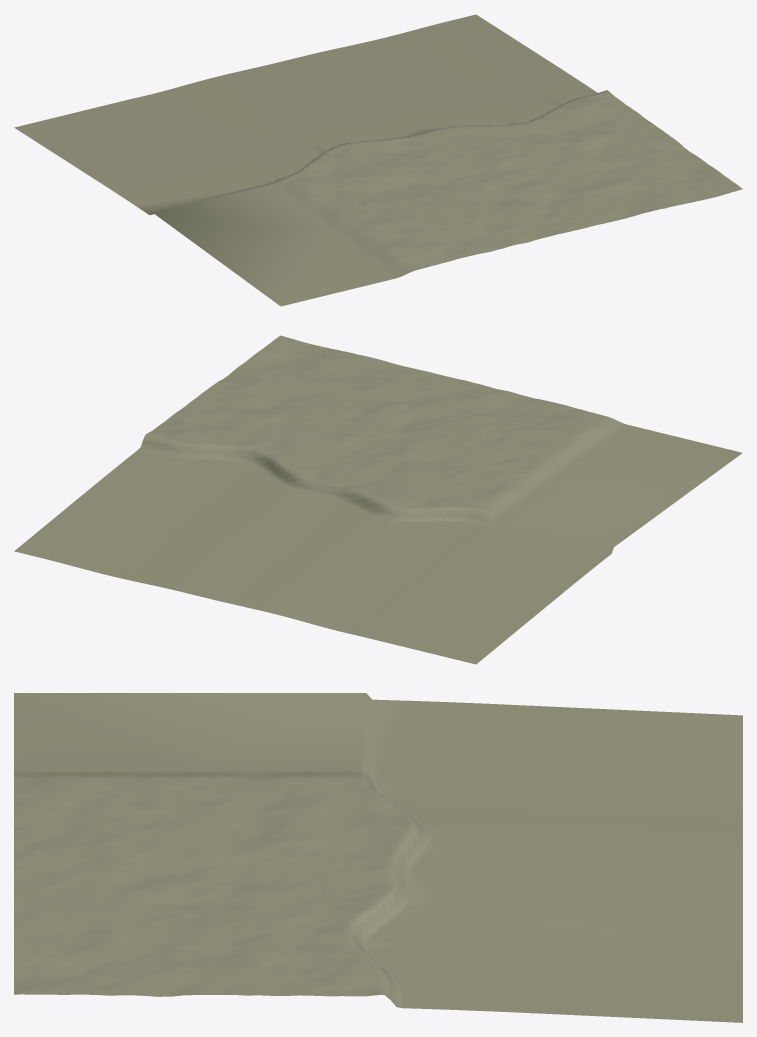
File: SM_VB_CityTerrain_11_2.fbx
3 views of the same model, one above another, from view 1: azimuth 30°, elevation 25°; view 2: azimuth 150°, elevation 25°; view 3: azimuth 270°, elevation 25° (orthographic). The views are drawn at different scales.
Visible parts, largest first — view 1: SM_VB_CityTerrain_11_2; view 2: SM_VB_CityTerrain_11_2; view 3: SM_VB_CityTerrain_11_2.
Boxes of the visible parts, <box> form: SM_VB_CityTerrain_11_2: <box>14,14,742,306</box>; SM_VB_CityTerrain_11_2: <box>14,335,742,664</box>; SM_VB_CityTerrain_11_2: <box>14,693,742,1022</box>.
Size of the model in its own units: 600 by 27.5 by 600.
